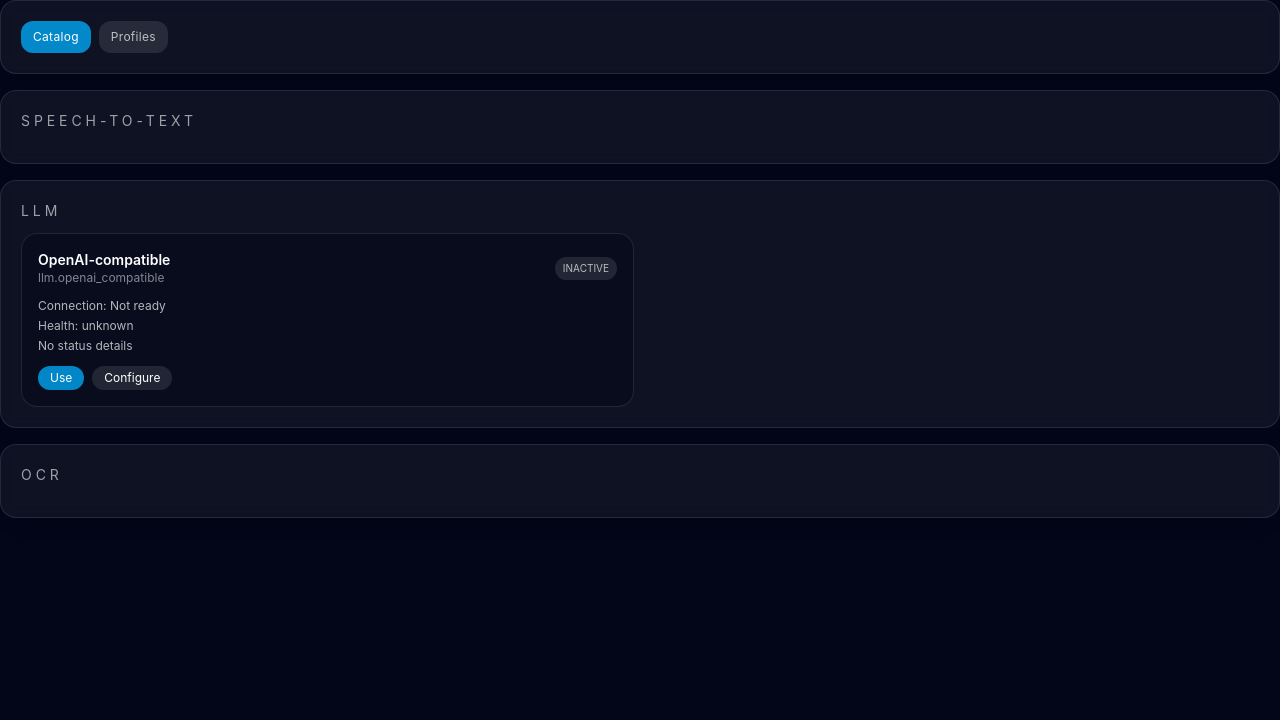
Scenario: ProvidersPanel tabs › switches between Catalog and Profiles subtabs
Expected: the heading "OpenAI-compatible" is shown, [38,250,170,270]
Click the button "Profiles": (133, 37) [99,21,168,53]
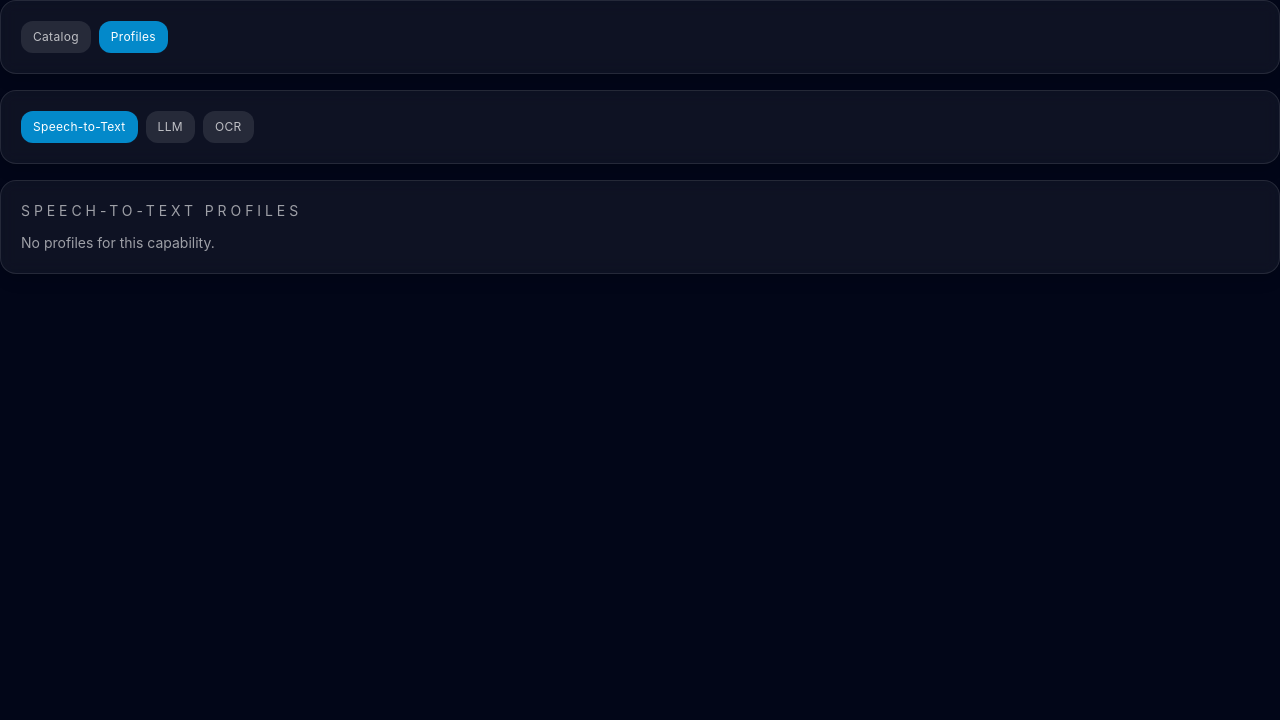
Expected: the heading "Speech-to-Text Profiles" is shown, [21,202,302,219]
